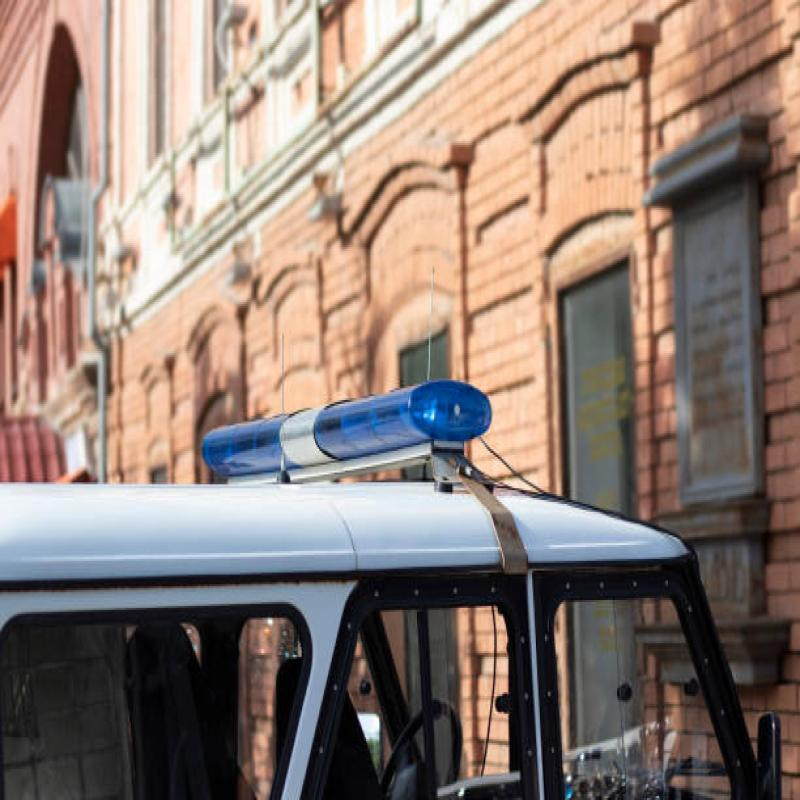AmbulanceSiren: (199, 364, 499, 507)
